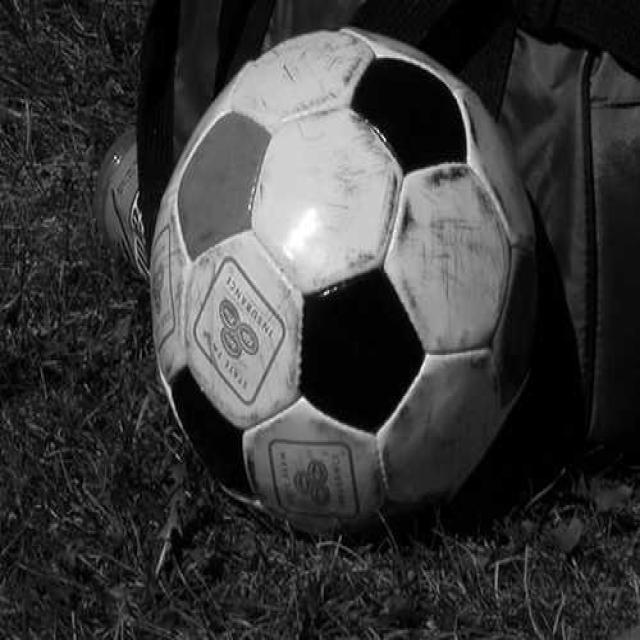ball: (152, 28, 544, 527)
